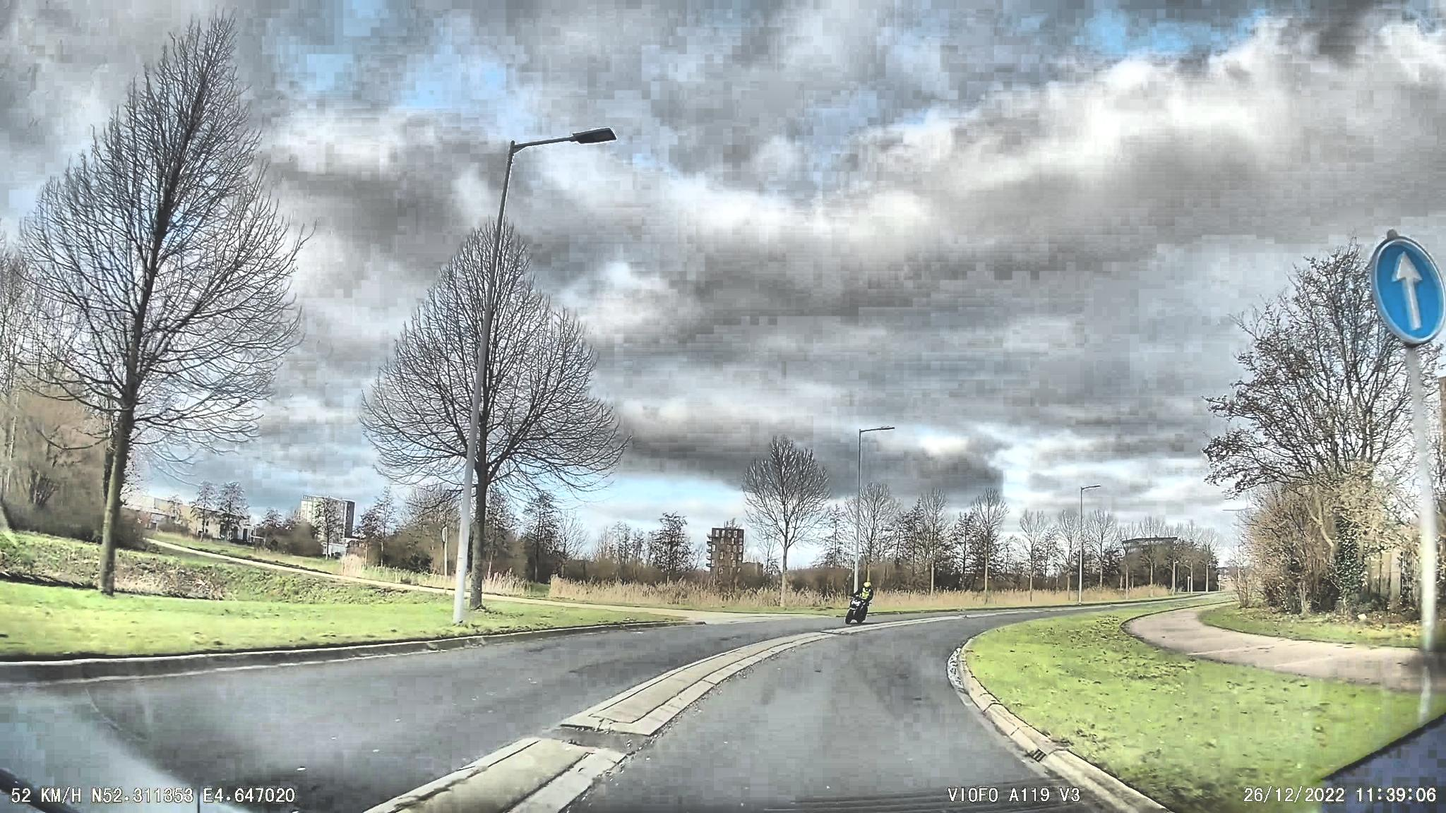Roads: (0, 614, 1112, 813)
